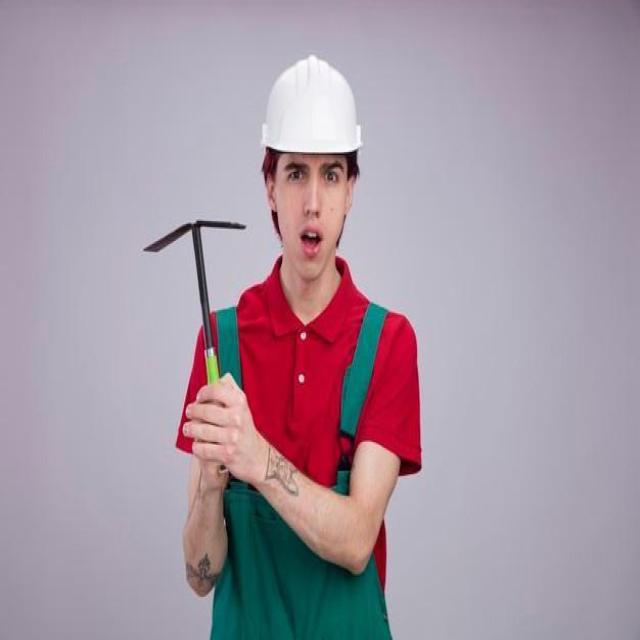helmet: (261, 54, 363, 154)
